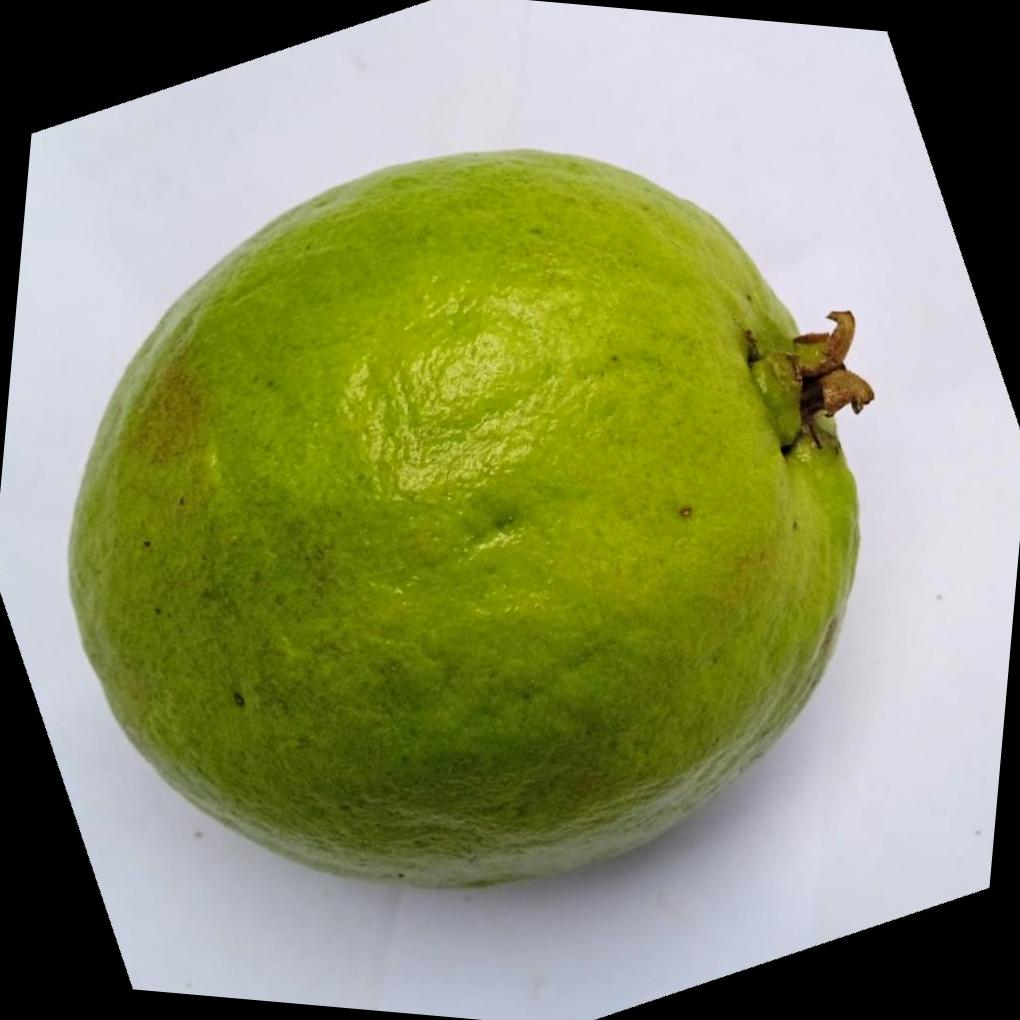FreshGuava: (64, 148, 873, 893)
